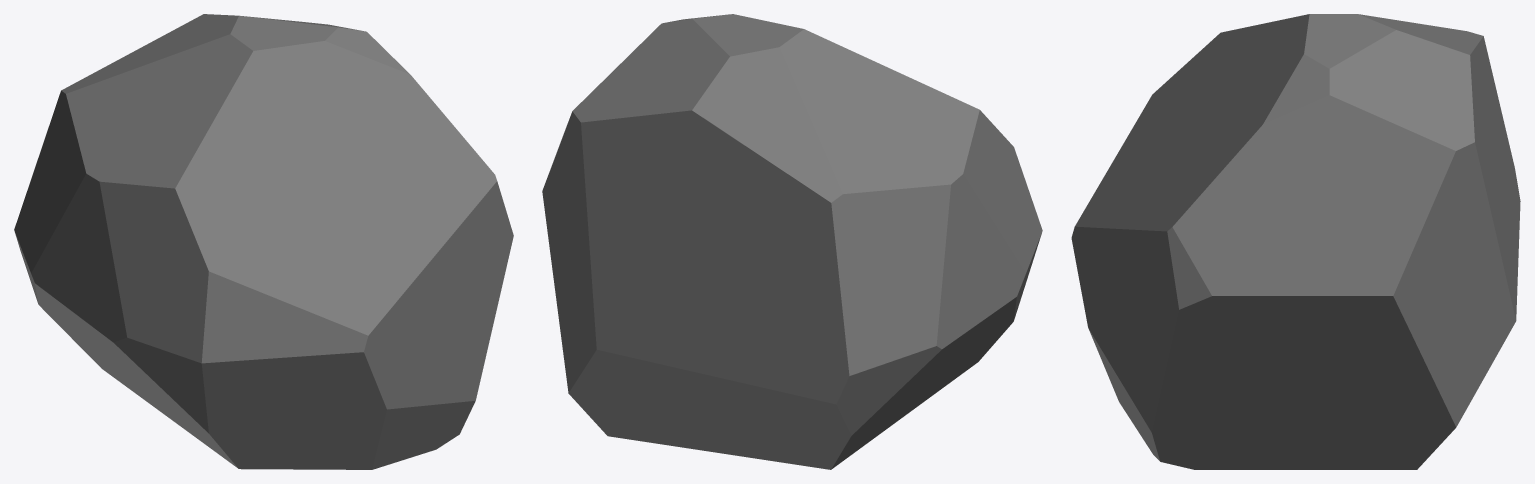
The model's file is Rock_02.fbx.
3 renders of one model, left to right at view 1: azimuth 30°, elevation 25°; view 2: azimuth 150°, elevation 25°; view 3: azimuth 270°, elevation 25°, orthographic. The views are drawn at different scales.
Visible parts, largest first — view 1: Rock_02_LOD0; view 2: Rock_02_LOD0; view 3: Rock_02_LOD0.
Part boxes in pixels (x1,y1,x2,y2): Rock_02_LOD0: (14, 14, 513, 469); Rock_02_LOD0: (542, 14, 1042, 469); Rock_02_LOD0: (1071, 14, 1520, 469).
Size of what is drawn, in the model's own units: 0.8876 by 0.8398 by 0.8783.
